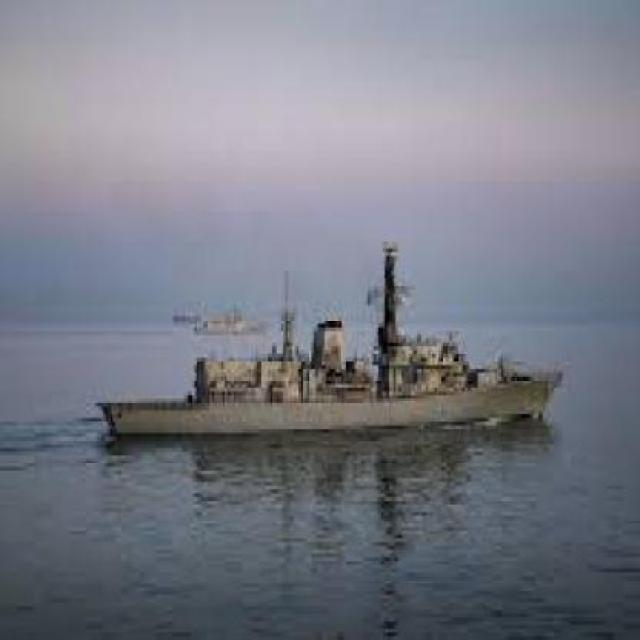warship2: (99, 238, 600, 464), (193, 299, 267, 343)
